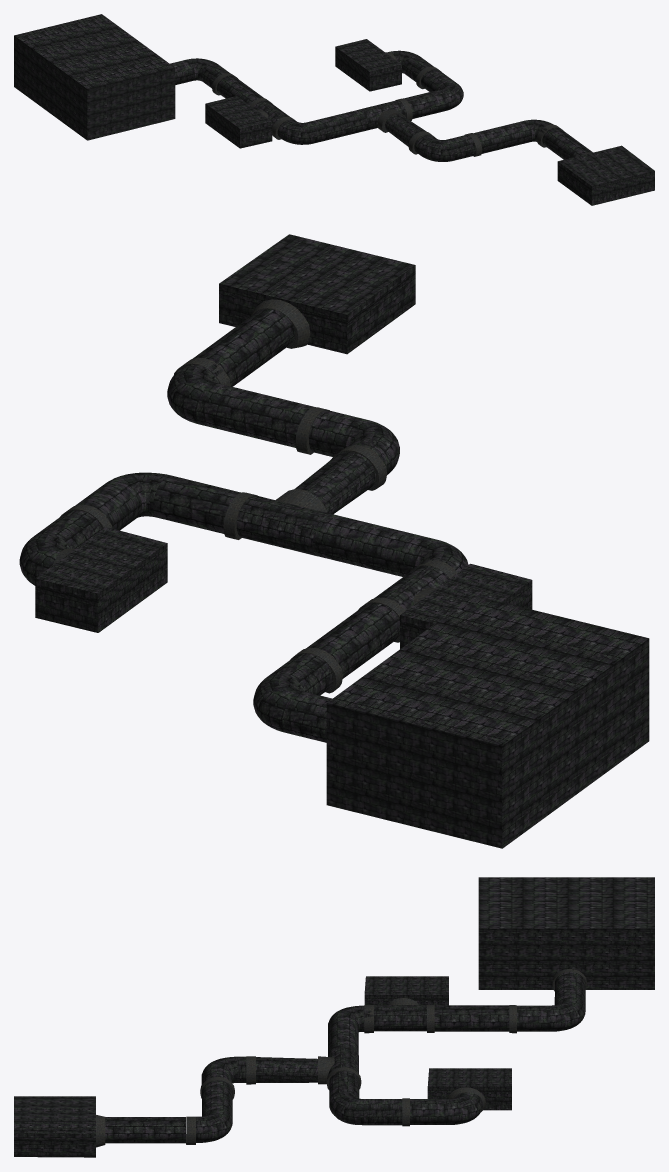
File: walkingthrough.fbx
3 views of the same model, one above another, from view 1: azimuth 30°, elevation 25°; view 2: azimuth 150°, elevation 25°; view 3: azimuth 270°, elevation 25° (orthographic). The views are drawn at different scales.
Visible parts, largest first — view 1: pCube2, pasted__pasted__pCube9, pasted__pasted__pCube10, pasted__pasted__pCube8, polySurface27, polySurface36, polySurface33, polySurface32, polySurface22, polySurface34, polySurface30, polySurface16 (+3 smaller); view 2: pCube2, pasted__pasted__pCube9, pasted__pasted__pCube8, polySurface33, polySurface36, polySurface27, polySurface22, pasted__pasted__pCube10, polySurface34, polySurface31, polySurface30, polySurface32 (+4 smaller); view 3: pCube2, pasted__pasted__pCube9, polySurface22, polySurface36, pasted__pasted__pCube8, pasted__pasted__pCube10, polySurface34, polySurface30, polySurface37, polySurface33, polySurface16, polySurface29 (+3 smaller).
Part boxes in pixels (x1,y1,x2,y2): pCube2: (14, 14, 175, 140); pasted__pasted__pCube9: (557, 145, 654, 205); pasted__pasted__pCube10: (205, 96, 272, 148); pasted__pasted__pCube8: (335, 39, 401, 91); polySurface27: (277, 109, 368, 144); polySurface36: (403, 69, 463, 118); polySurface33: (473, 119, 553, 153); polySurface32: (414, 134, 475, 161); polySurface22: (170, 58, 230, 88); polySurface34: (542, 127, 592, 159); polySurface30: (216, 75, 264, 104); polySurface16: (385, 114, 426, 146); pCube2: (326, 595, 649, 848); pasted__pasted__pCube9: (219, 234, 415, 354); pasted__pasted__pCube8: (35, 527, 167, 632); polySurface33: (167, 363, 313, 447); polySurface36: (75, 472, 240, 533); polySurface27: (312, 514, 468, 576); polySurface22: (253, 653, 333, 742); pasted__pasted__pCube10: (400, 563, 532, 648); polySurface34: (192, 308, 294, 386); polySurface31: (236, 495, 332, 555); polySurface30: (306, 603, 399, 678); polySurface32: (309, 410, 399, 474); pCube2: (478, 877, 654, 989); pasted__pasted__pCube9: (14, 1096, 95, 1157); polySurface22: (517, 969, 585, 1031); polySurface36: (329, 1071, 402, 1125); pasted__pasted__pCube8: (427, 1068, 511, 1110); pasted__pasted__pCube10: (364, 976, 448, 1005); polySurface34: (105, 1117, 185, 1143); polySurface30: (434, 1005, 509, 1031); polySurface37: (410, 1092, 482, 1124); polySurface33: (193, 1080, 232, 1142); polySurface16: (256, 1057, 317, 1082); polySurface29: (374, 1005, 426, 1031).
Size of the model in its own units: 3991 by 534 by 4928.
7 materials, 7 textured.
